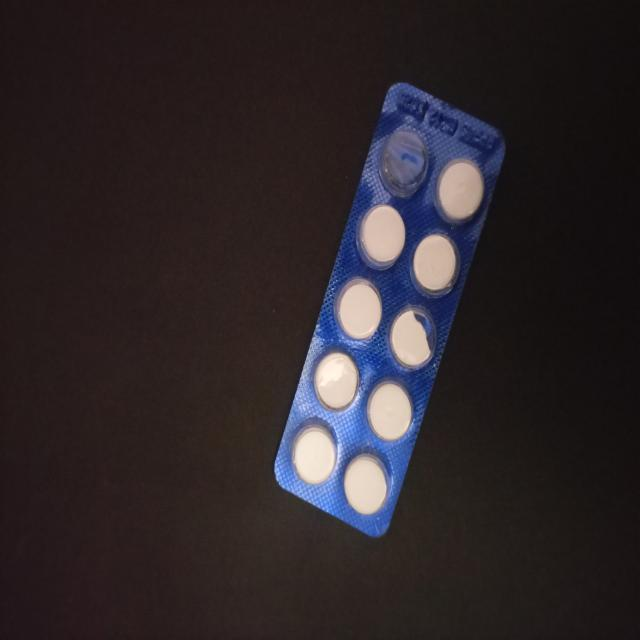defect: (376, 127, 432, 200), (388, 302, 438, 375)
